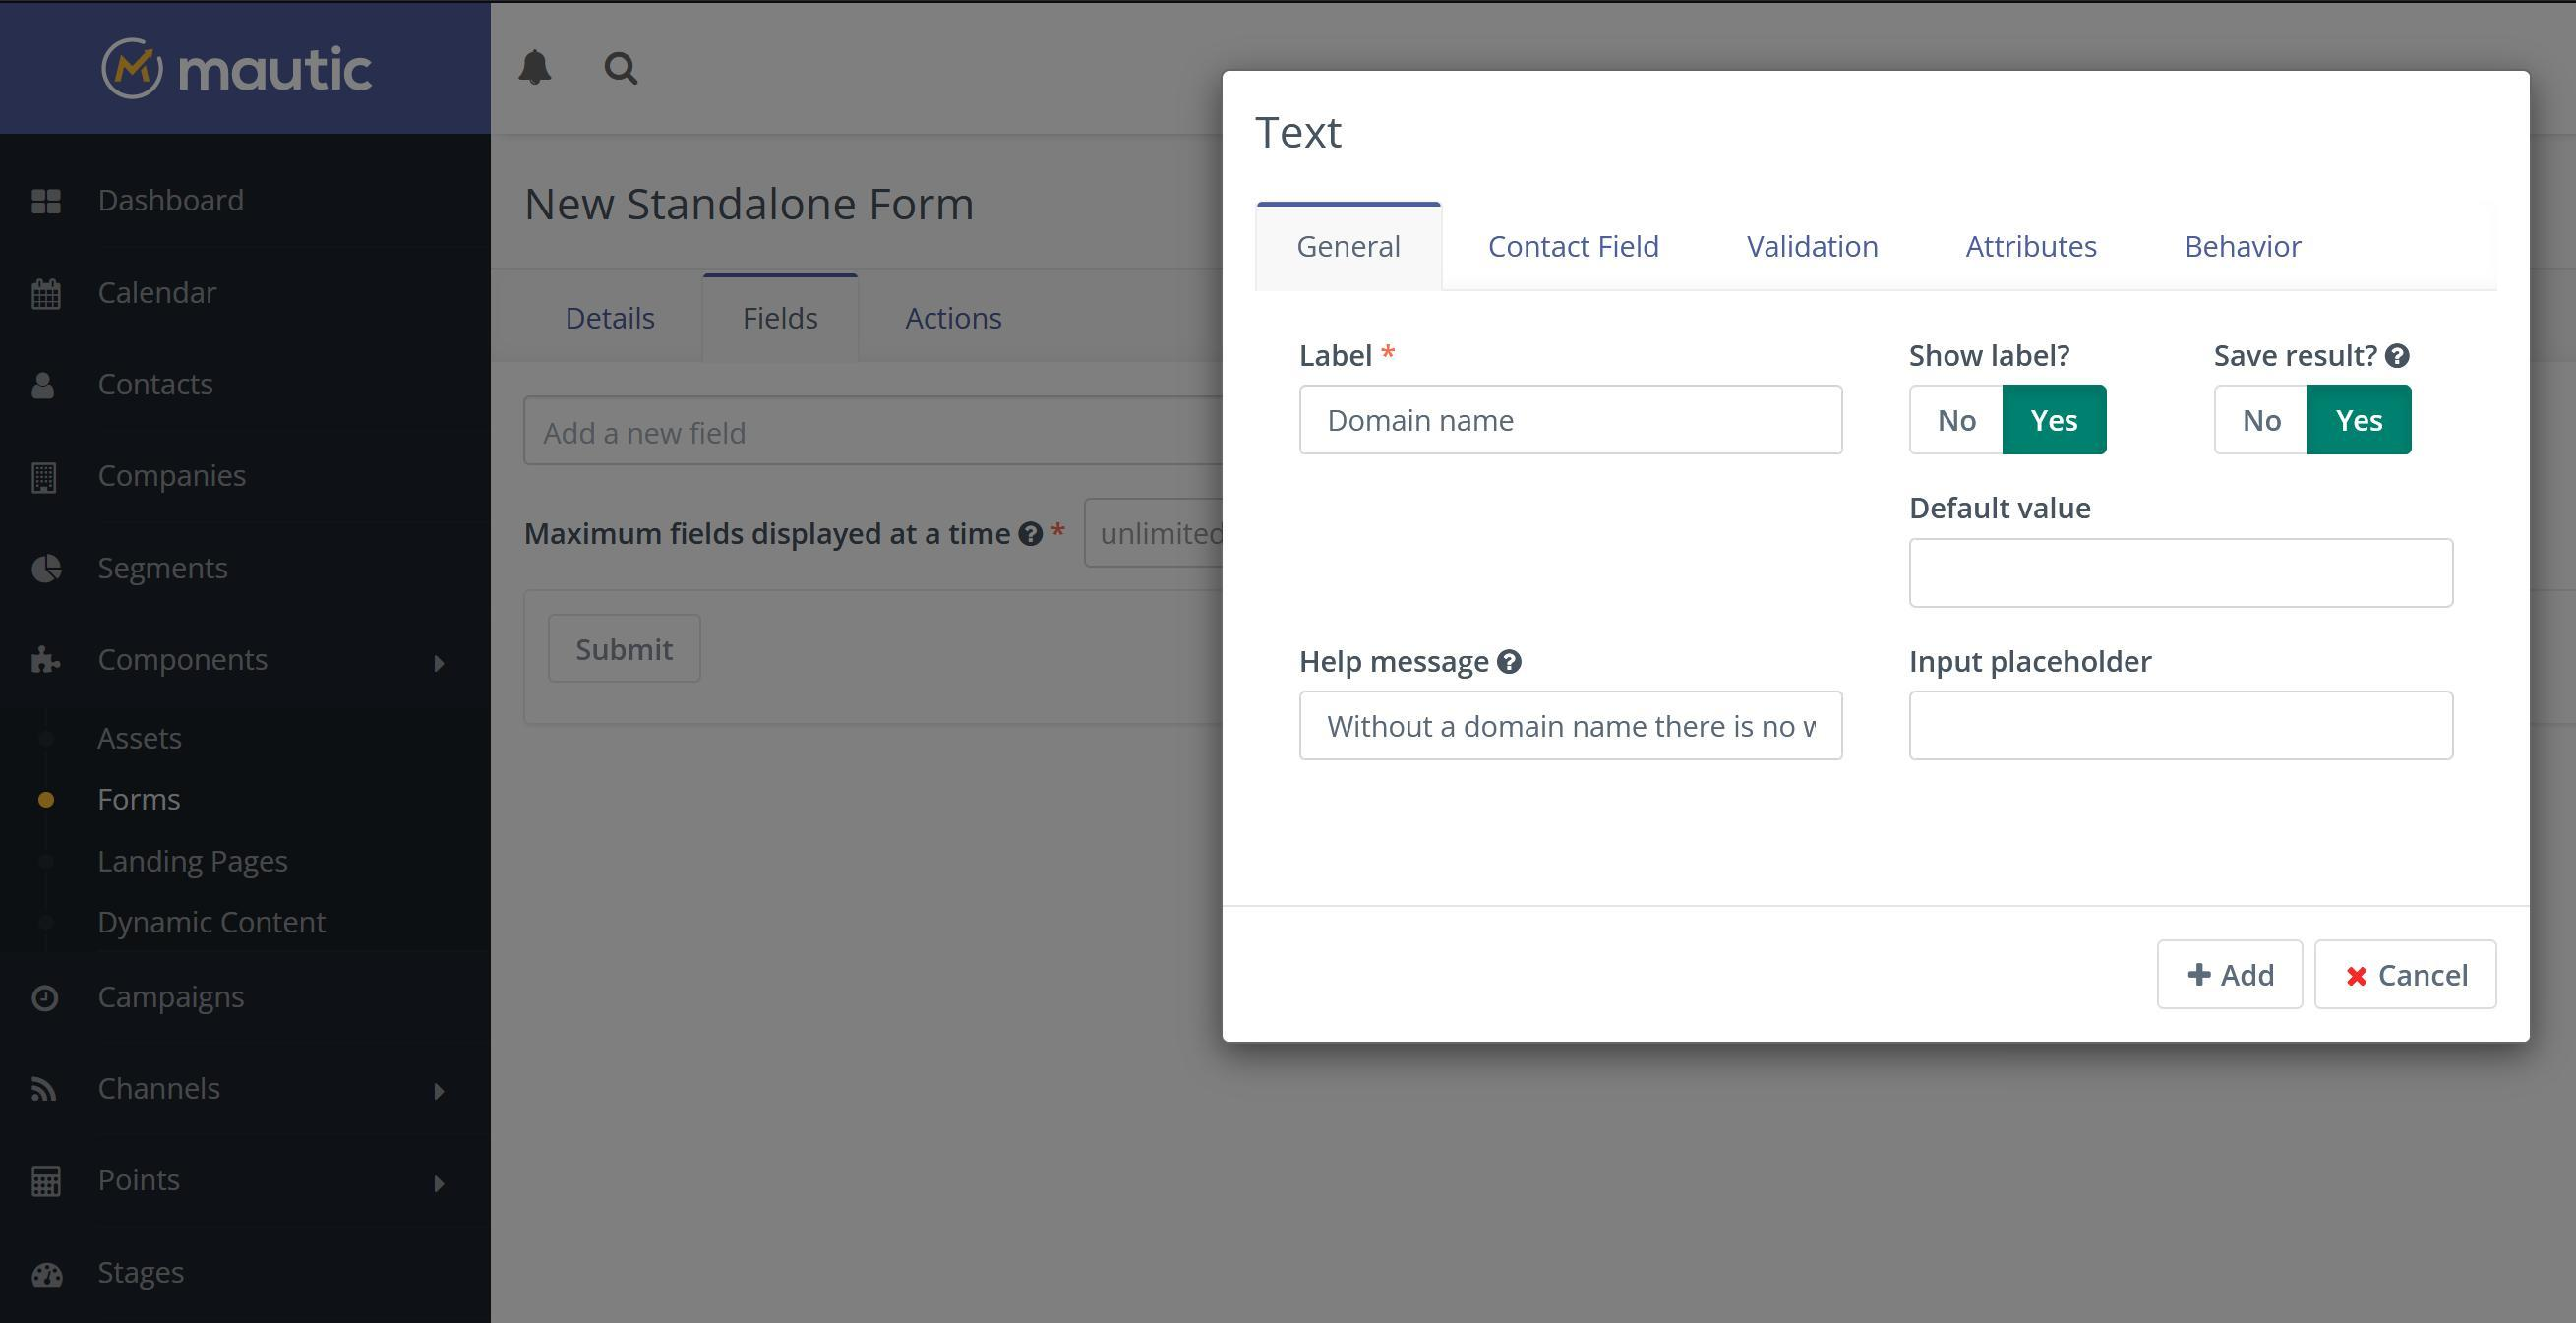button: (2318, 938, 2498, 1007), (548, 614, 703, 687), (2159, 940, 2306, 1011), (2004, 383, 2109, 454), (2311, 385, 2414, 456)
icon: (511, 44, 560, 91), (601, 46, 651, 91), (29, 1161, 67, 1208), (27, 645, 64, 680), (30, 278, 64, 317), (30, 457, 59, 503), (29, 1073, 62, 1109), (27, 371, 62, 405), (30, 555, 62, 592), (30, 1261, 69, 1291), (30, 187, 62, 221), (32, 987, 61, 1012)
input: (525, 395, 1223, 469), (1302, 692, 1844, 763), (1299, 388, 1846, 457), (1911, 538, 2456, 607), (1910, 694, 2455, 761)
label: (520, 179, 984, 233), (518, 520, 1014, 550), (1903, 643, 2159, 683), (94, 908, 329, 938), (94, 845, 292, 879), (1906, 491, 2094, 525), (1900, 343, 2073, 376), (1297, 646, 1490, 677), (101, 645, 268, 678), (1746, 223, 1881, 263), (2210, 343, 2379, 375), (1485, 231, 1660, 262), (1291, 226, 1405, 270), (96, 984, 250, 1016), (91, 187, 250, 218), (91, 462, 250, 493), (1962, 230, 2105, 260), (892, 300, 1010, 336), (1257, 110, 1346, 155), (555, 299, 661, 336), (96, 277, 218, 309), (96, 1073, 223, 1104), (2178, 235, 2311, 263), (98, 555, 231, 584), (93, 1255, 187, 1293), (96, 373, 216, 398), (744, 302, 825, 338), (98, 722, 182, 754), (96, 1166, 186, 1195), (1292, 341, 1378, 370), (100, 785, 181, 815), (2235, 405, 2293, 437), (1937, 405, 1981, 437)
